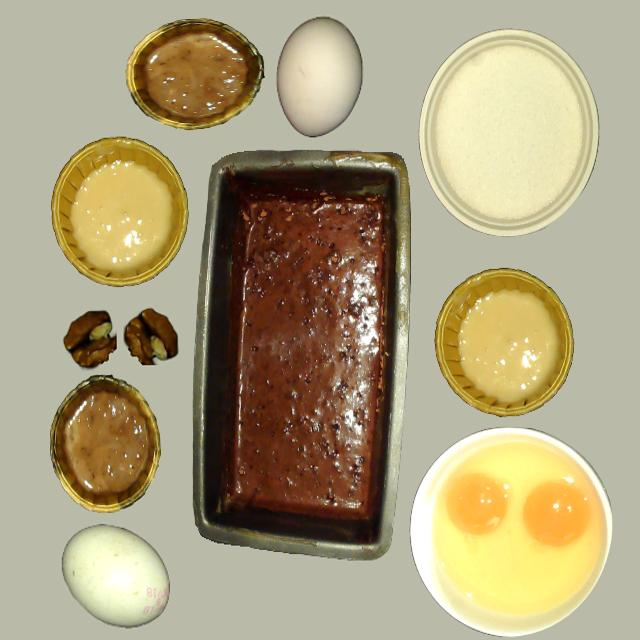Egg: (522, 481, 590, 547), (446, 474, 509, 536)
Sugar: (420, 29, 598, 234)
